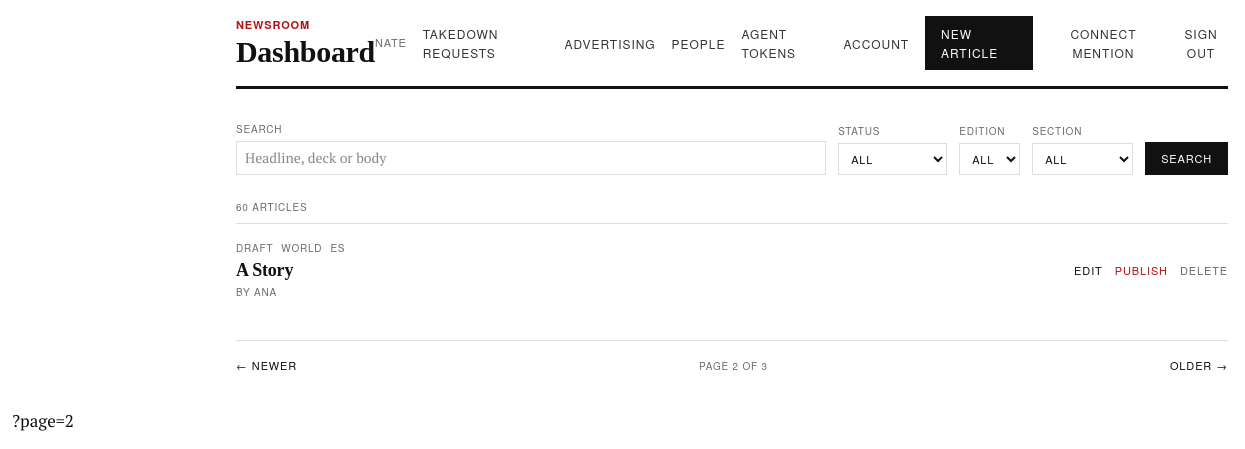
Scenario: Dashboard filters › changing a filter goes back to the first page
The width and height of the screenshot is (1245, 449).
Expected: the text "A Story" is shown, [236,260,293,280]
Select "fr" in the dropdown labelled "Edition" at point(990, 159), box [959,143,1020,175]
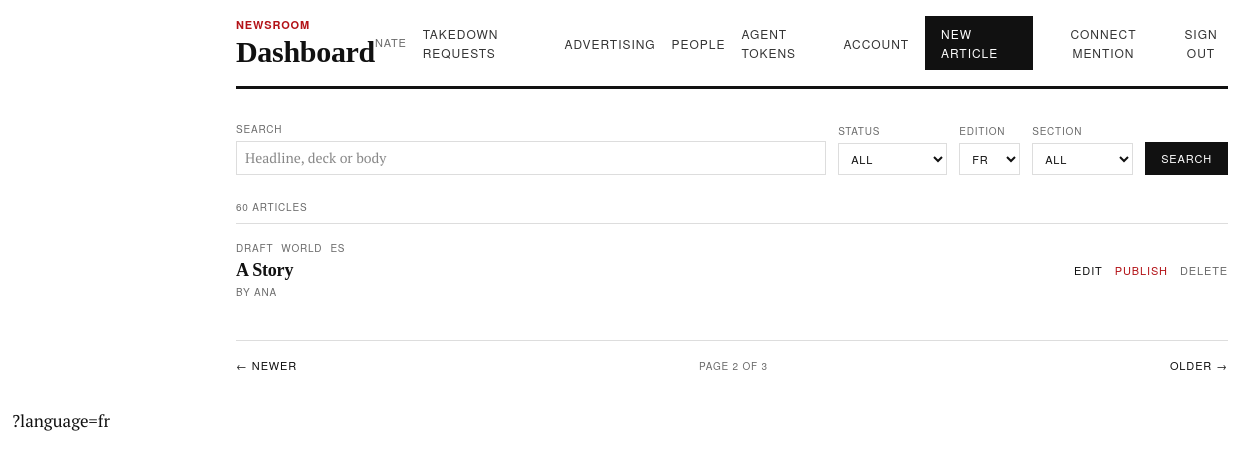
Now the text with test id "location" reads "?language=fr", box [12,409,110,432]
